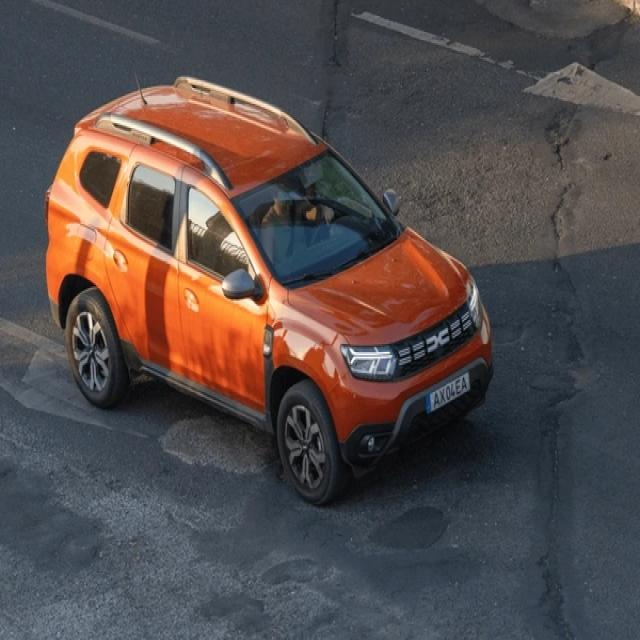dacia: (424, 328, 452, 354)
